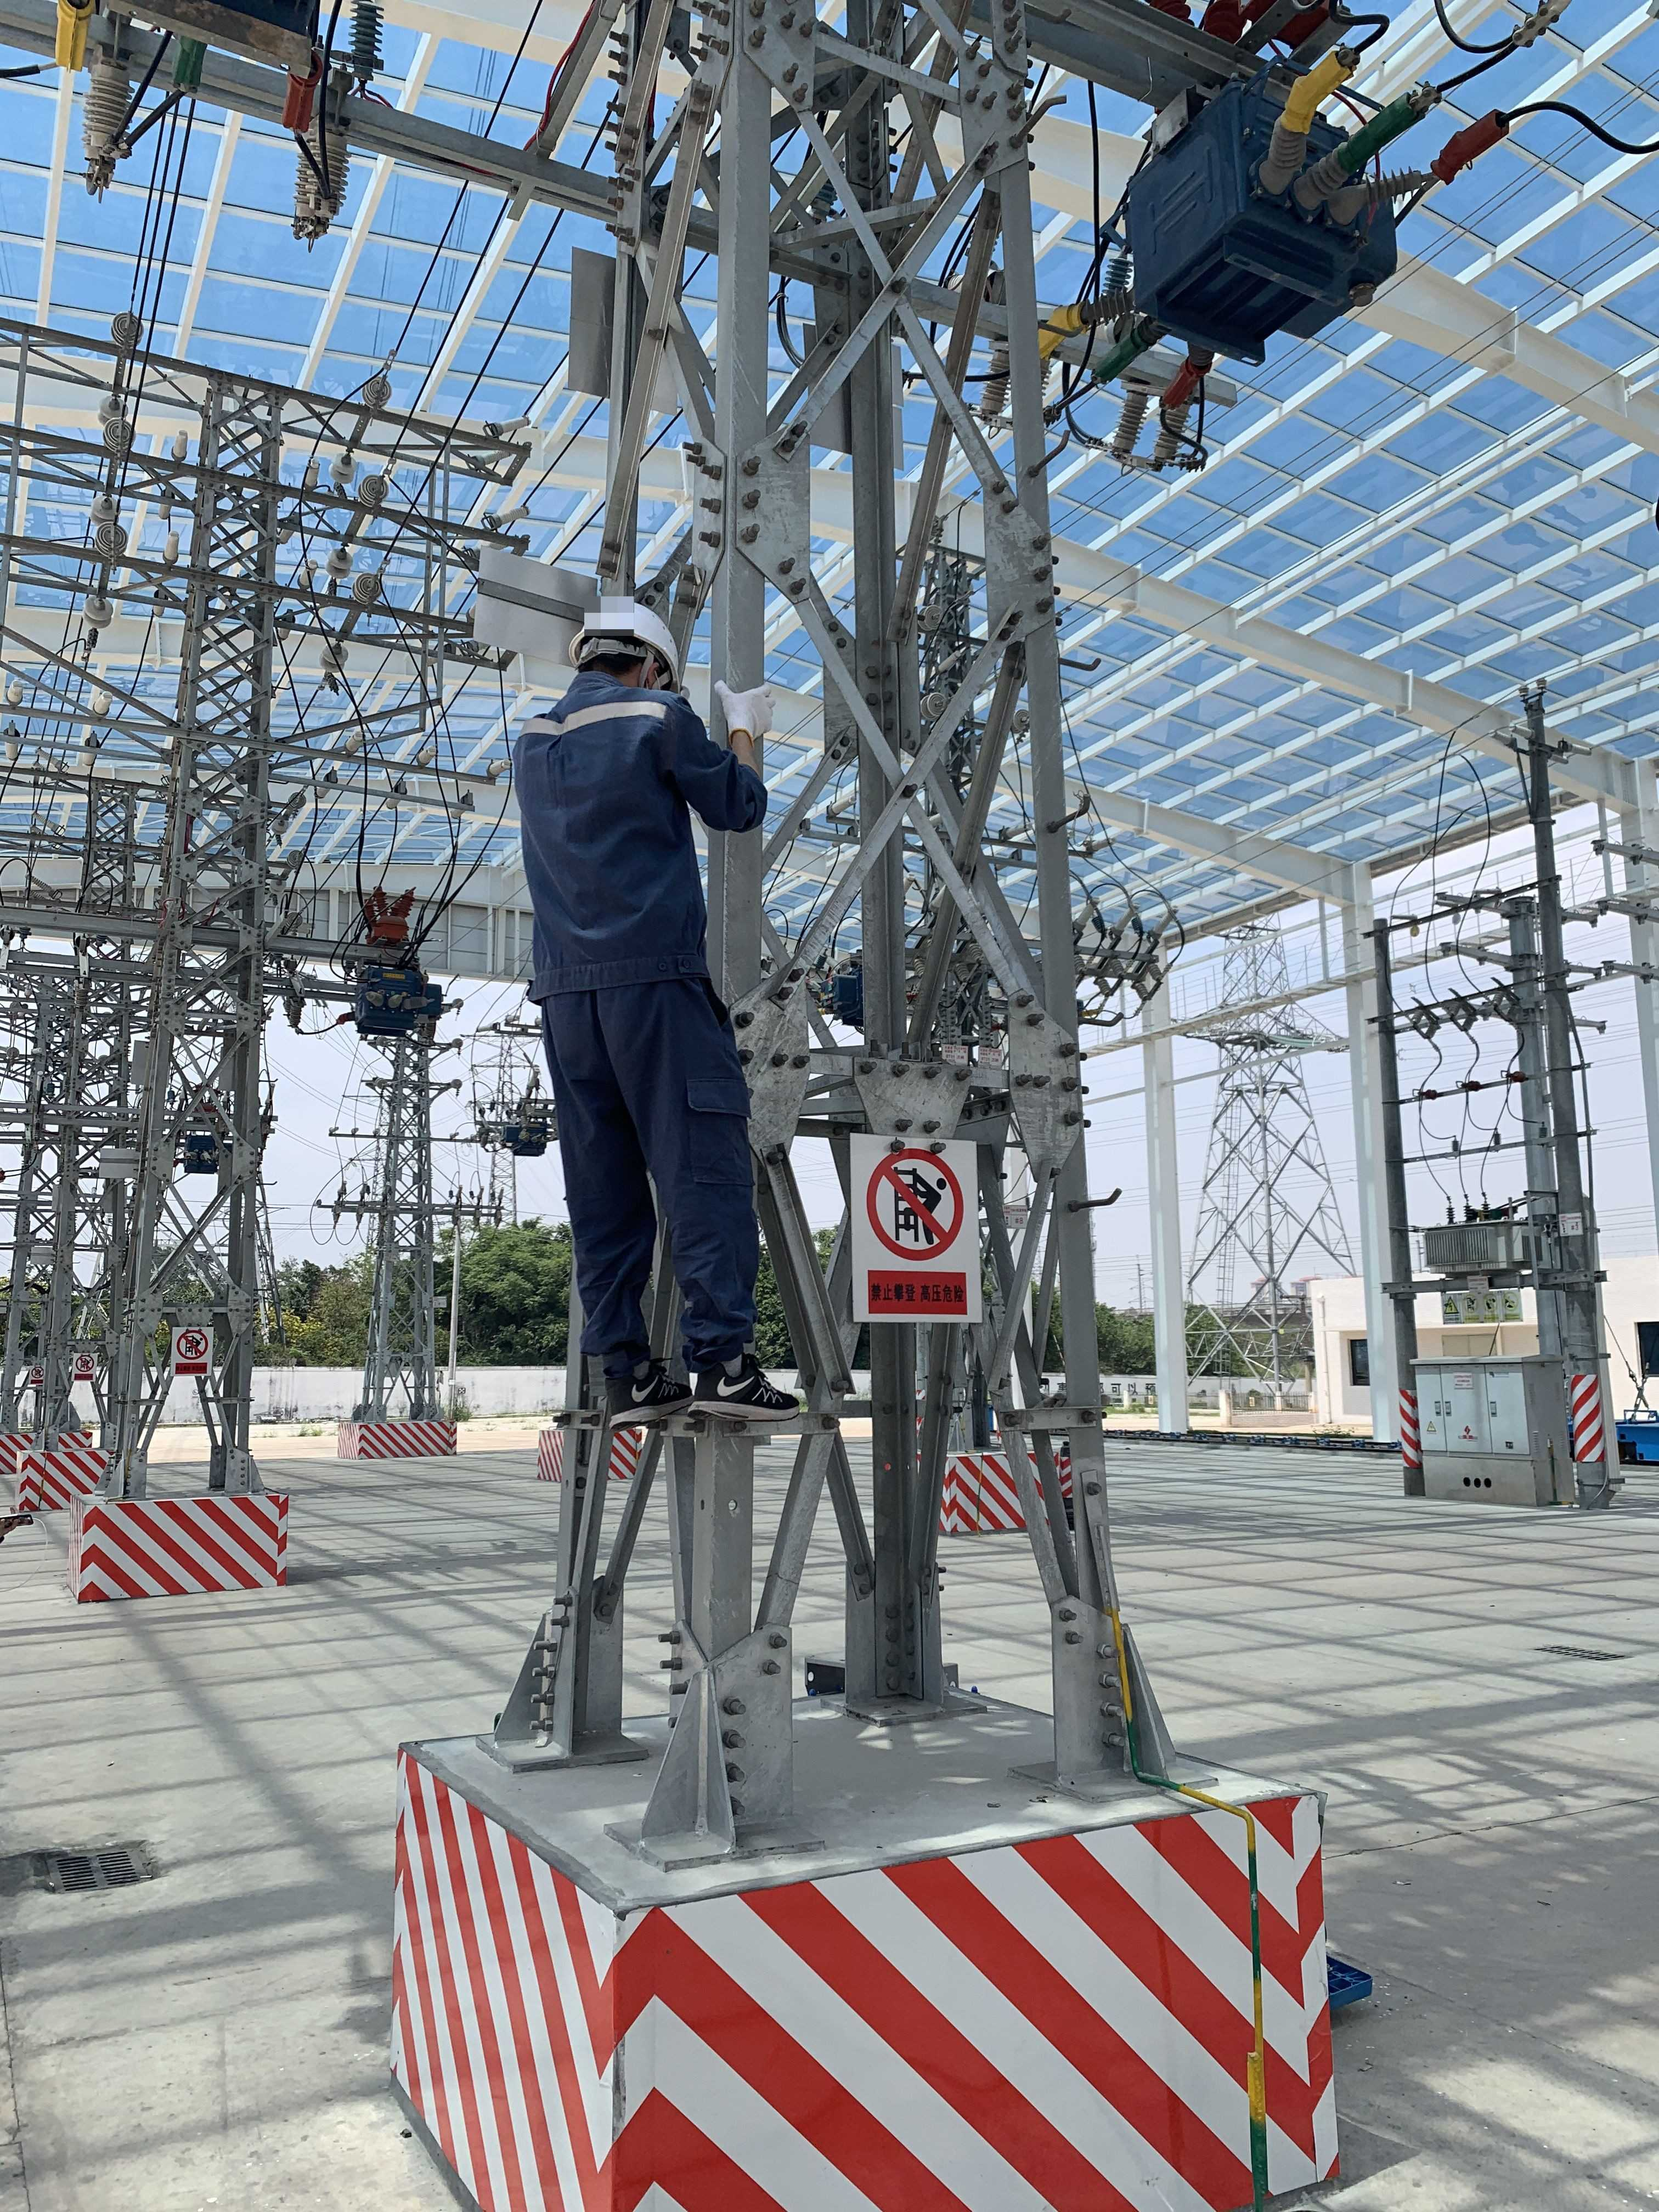downsuit: (535, 1010, 774, 1364)
upsuit: (497, 679, 767, 981)
wrongtop: (725, 728, 765, 779)
